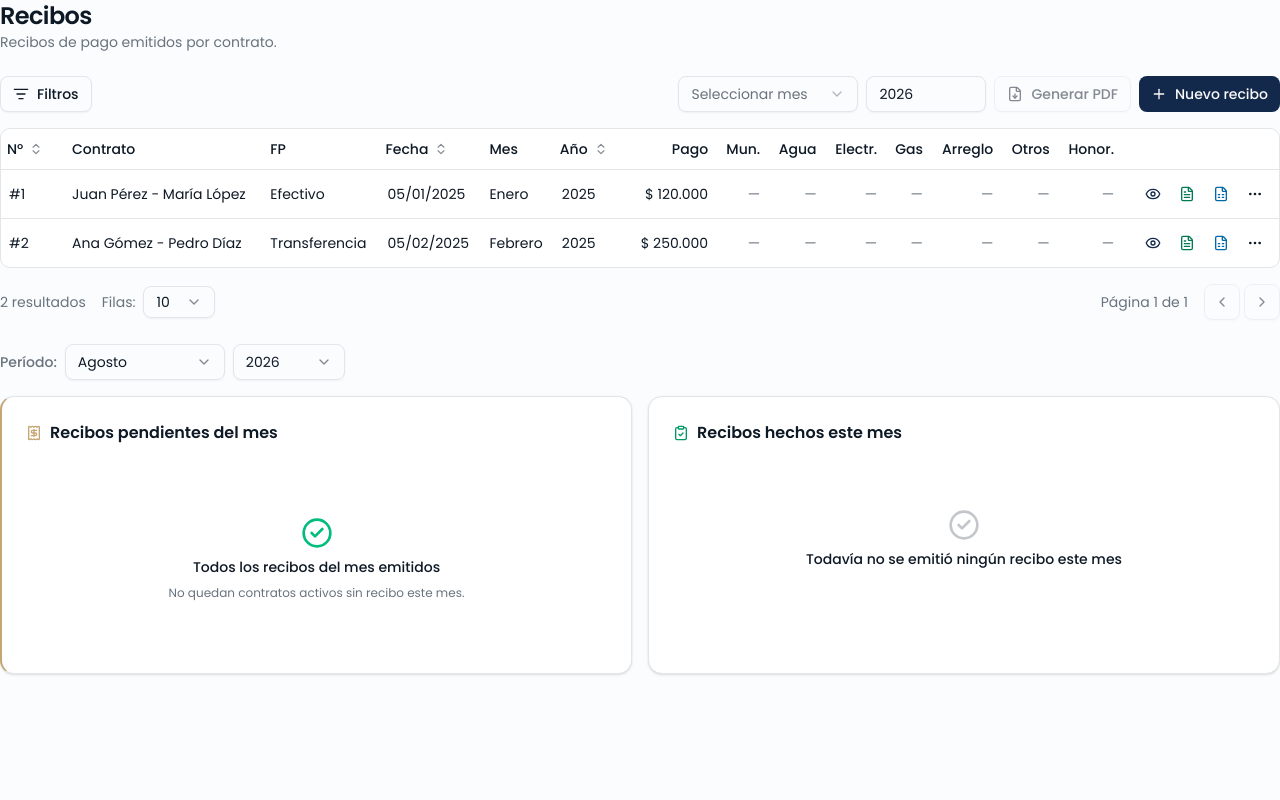
Test case: Acciones de PDF de recibos › abre el detalle del recibo en un modal con toda la info
The image size is (1280, 800).
Check: the text "Juan Pérez - María López" is shown, box [64,169,262,218]
Click the button named "Ver detalle del recibo #1".
click(1153, 194)  # box [1137,178,1169,210]
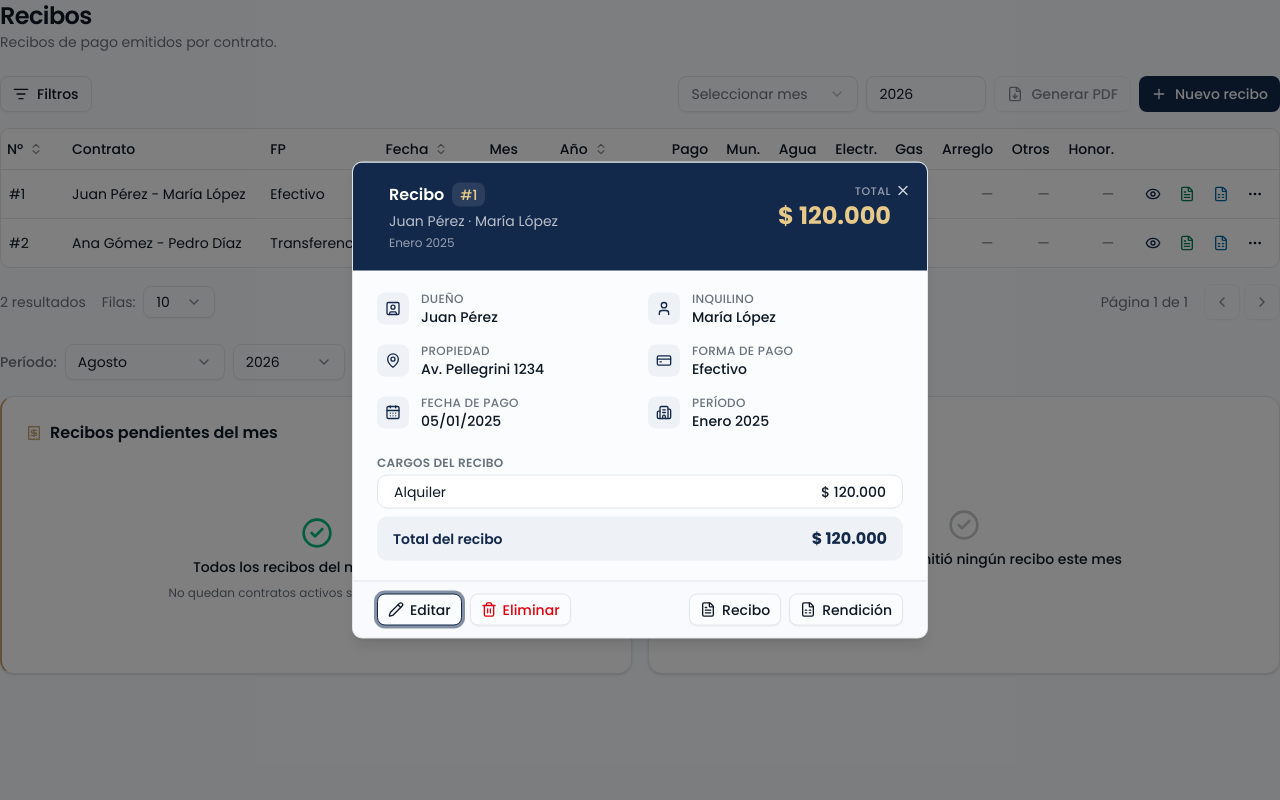
Check: the text "Av. Pellegrini 1234" is shown, box [421,358,544,378]
Check: the text "Efectivo" is shown, box [692,358,747,378]
Check: the text "Alquiler" is shown, box [394,482,446,502]
